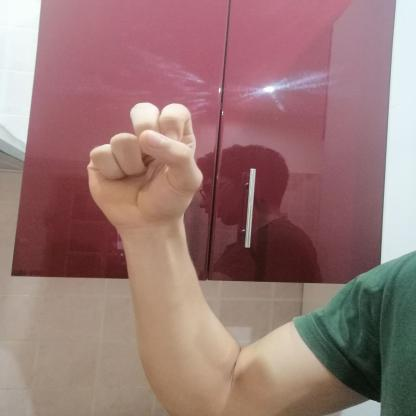QAAF: (72, 92, 216, 235)
